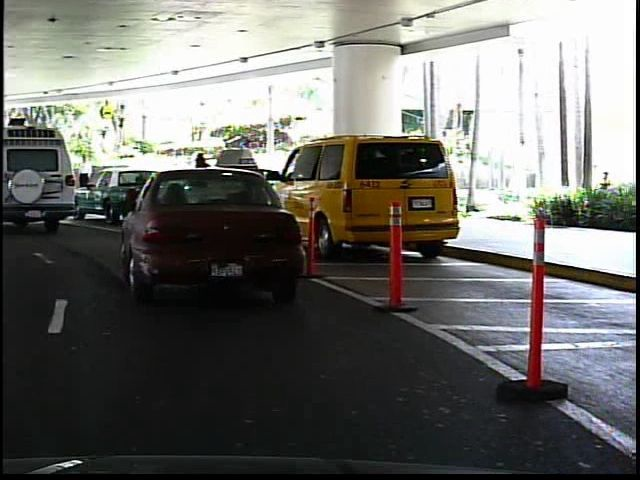person: (189, 145, 220, 213), (226, 141, 254, 212), (11, 158, 30, 196), (78, 149, 92, 189)
